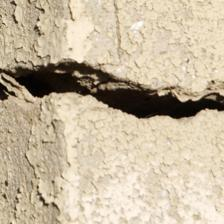Crack: (1, 54, 223, 128)
